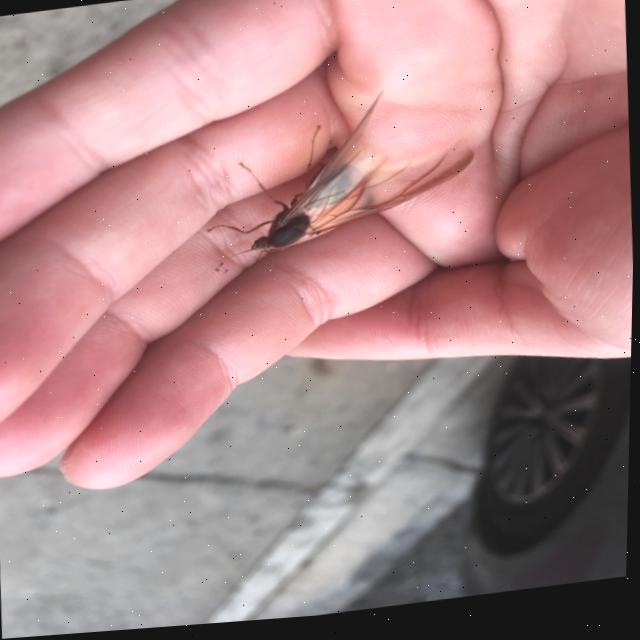Alive-Male-Alate: (201, 85, 482, 293)
